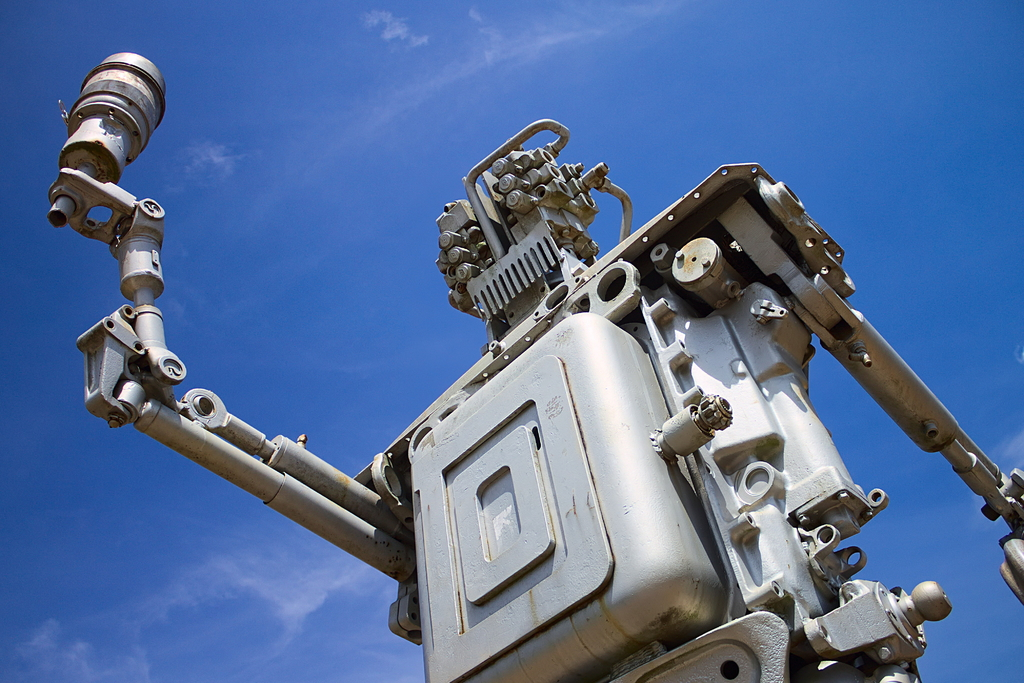person: (45, 50, 174, 432)
